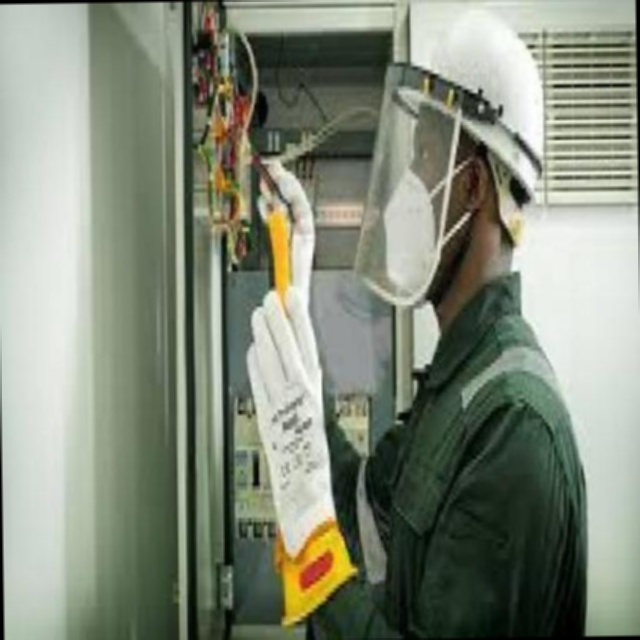gloves: (232, 276, 365, 613), (249, 142, 333, 336)
helmet: (357, 5, 549, 207)
vest: (379, 319, 582, 640)
